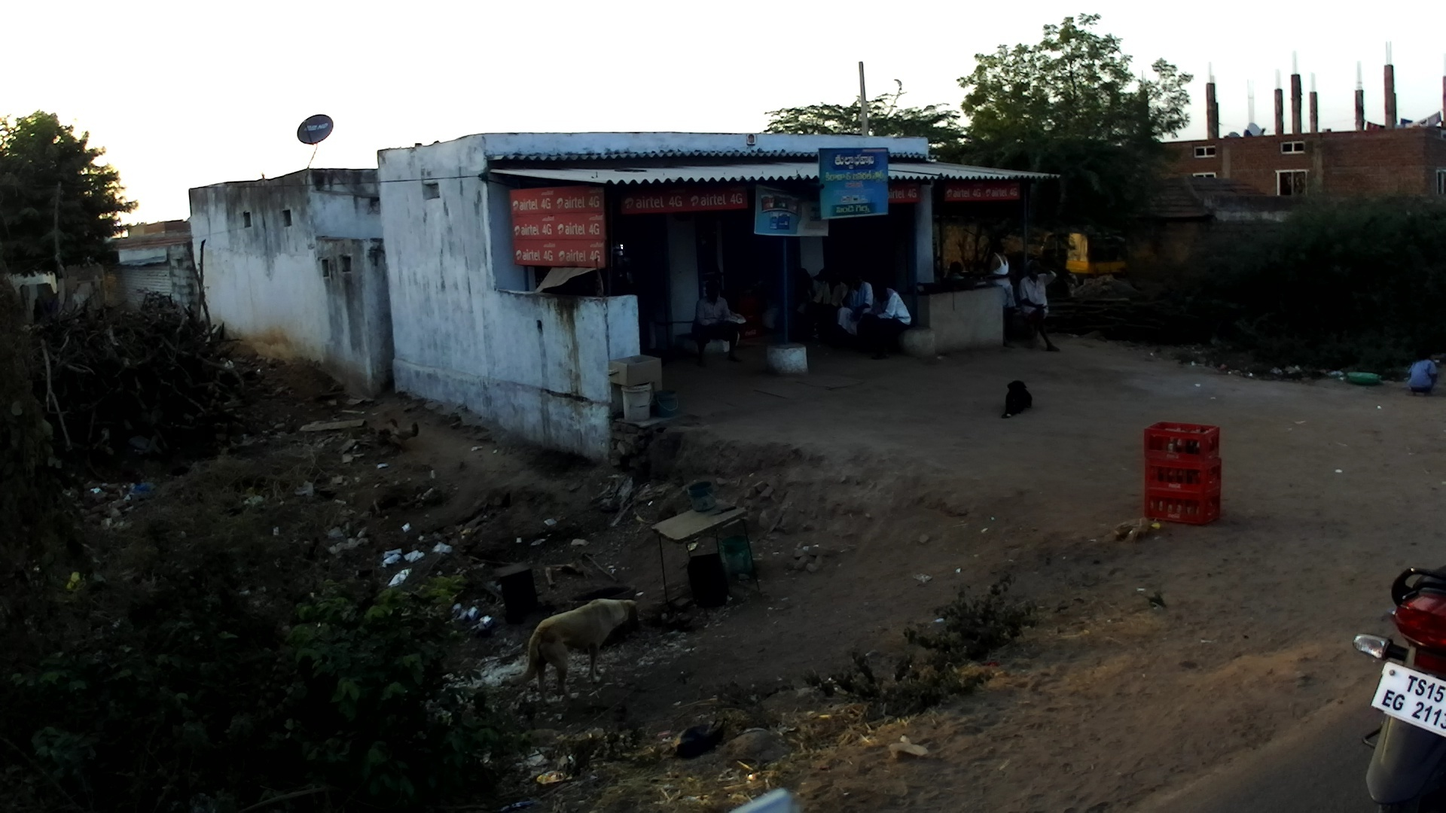animal: (505, 590, 637, 700), (1001, 377, 1036, 422)
autorickshaw: (1038, 224, 1133, 279)
motorcycle: (1353, 564, 1444, 810)
person: (694, 276, 751, 370), (857, 282, 914, 357), (1021, 257, 1064, 353), (990, 237, 1023, 352), (808, 266, 852, 352), (765, 260, 816, 334), (834, 272, 875, 345), (1405, 347, 1440, 396), (946, 257, 966, 279)
